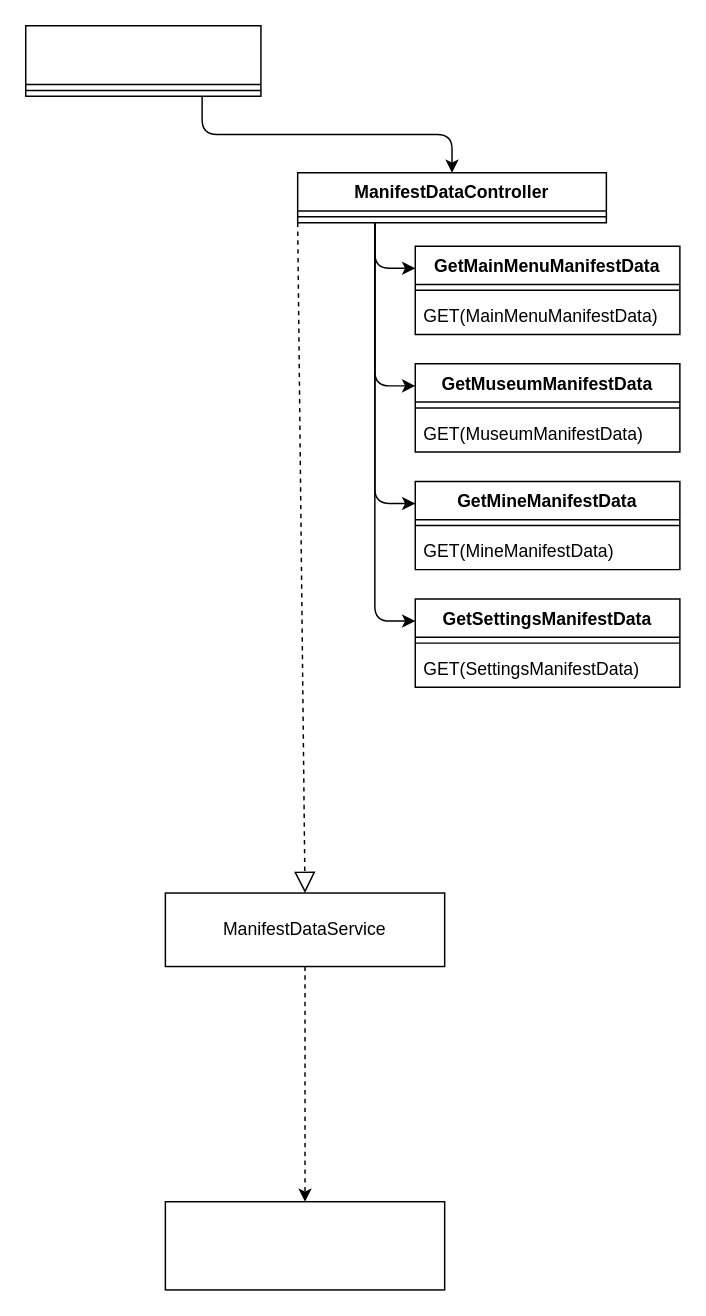
The diagram is 706 pixels wide and 1316 high, and some of its shapes have lost their labels. The box of each missing label's shape, as (x1, y1, x2, y2) in pixels:
<<API>> http//:localhost: (24, 24, 261, 96)
ManifestDataRepository: (164, 1200, 445, 1290)
